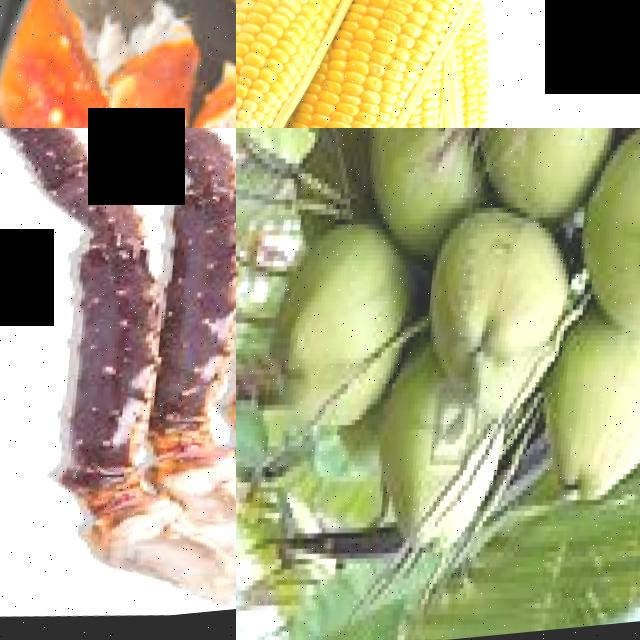coconut: (262, 217, 412, 449), (422, 208, 572, 429), (542, 325, 640, 523), (473, 128, 626, 231), (573, 128, 640, 355)
corn: (353, 0, 505, 100), (236, 0, 345, 128), (243, 75, 394, 128), (439, 20, 504, 128)
crab: (0, 128, 236, 586), (0, 0, 236, 128)
